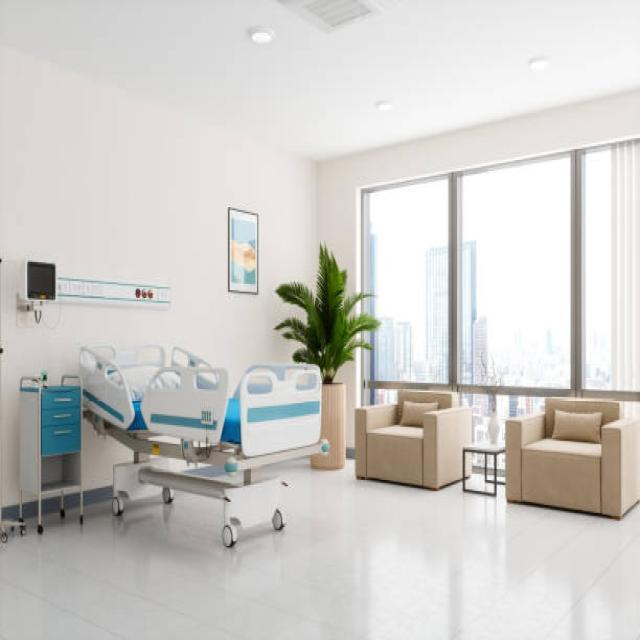Monitor: (20, 254, 64, 324)
bed: (78, 340, 328, 546)
sofa: (504, 396, 639, 520), (353, 388, 472, 490)
